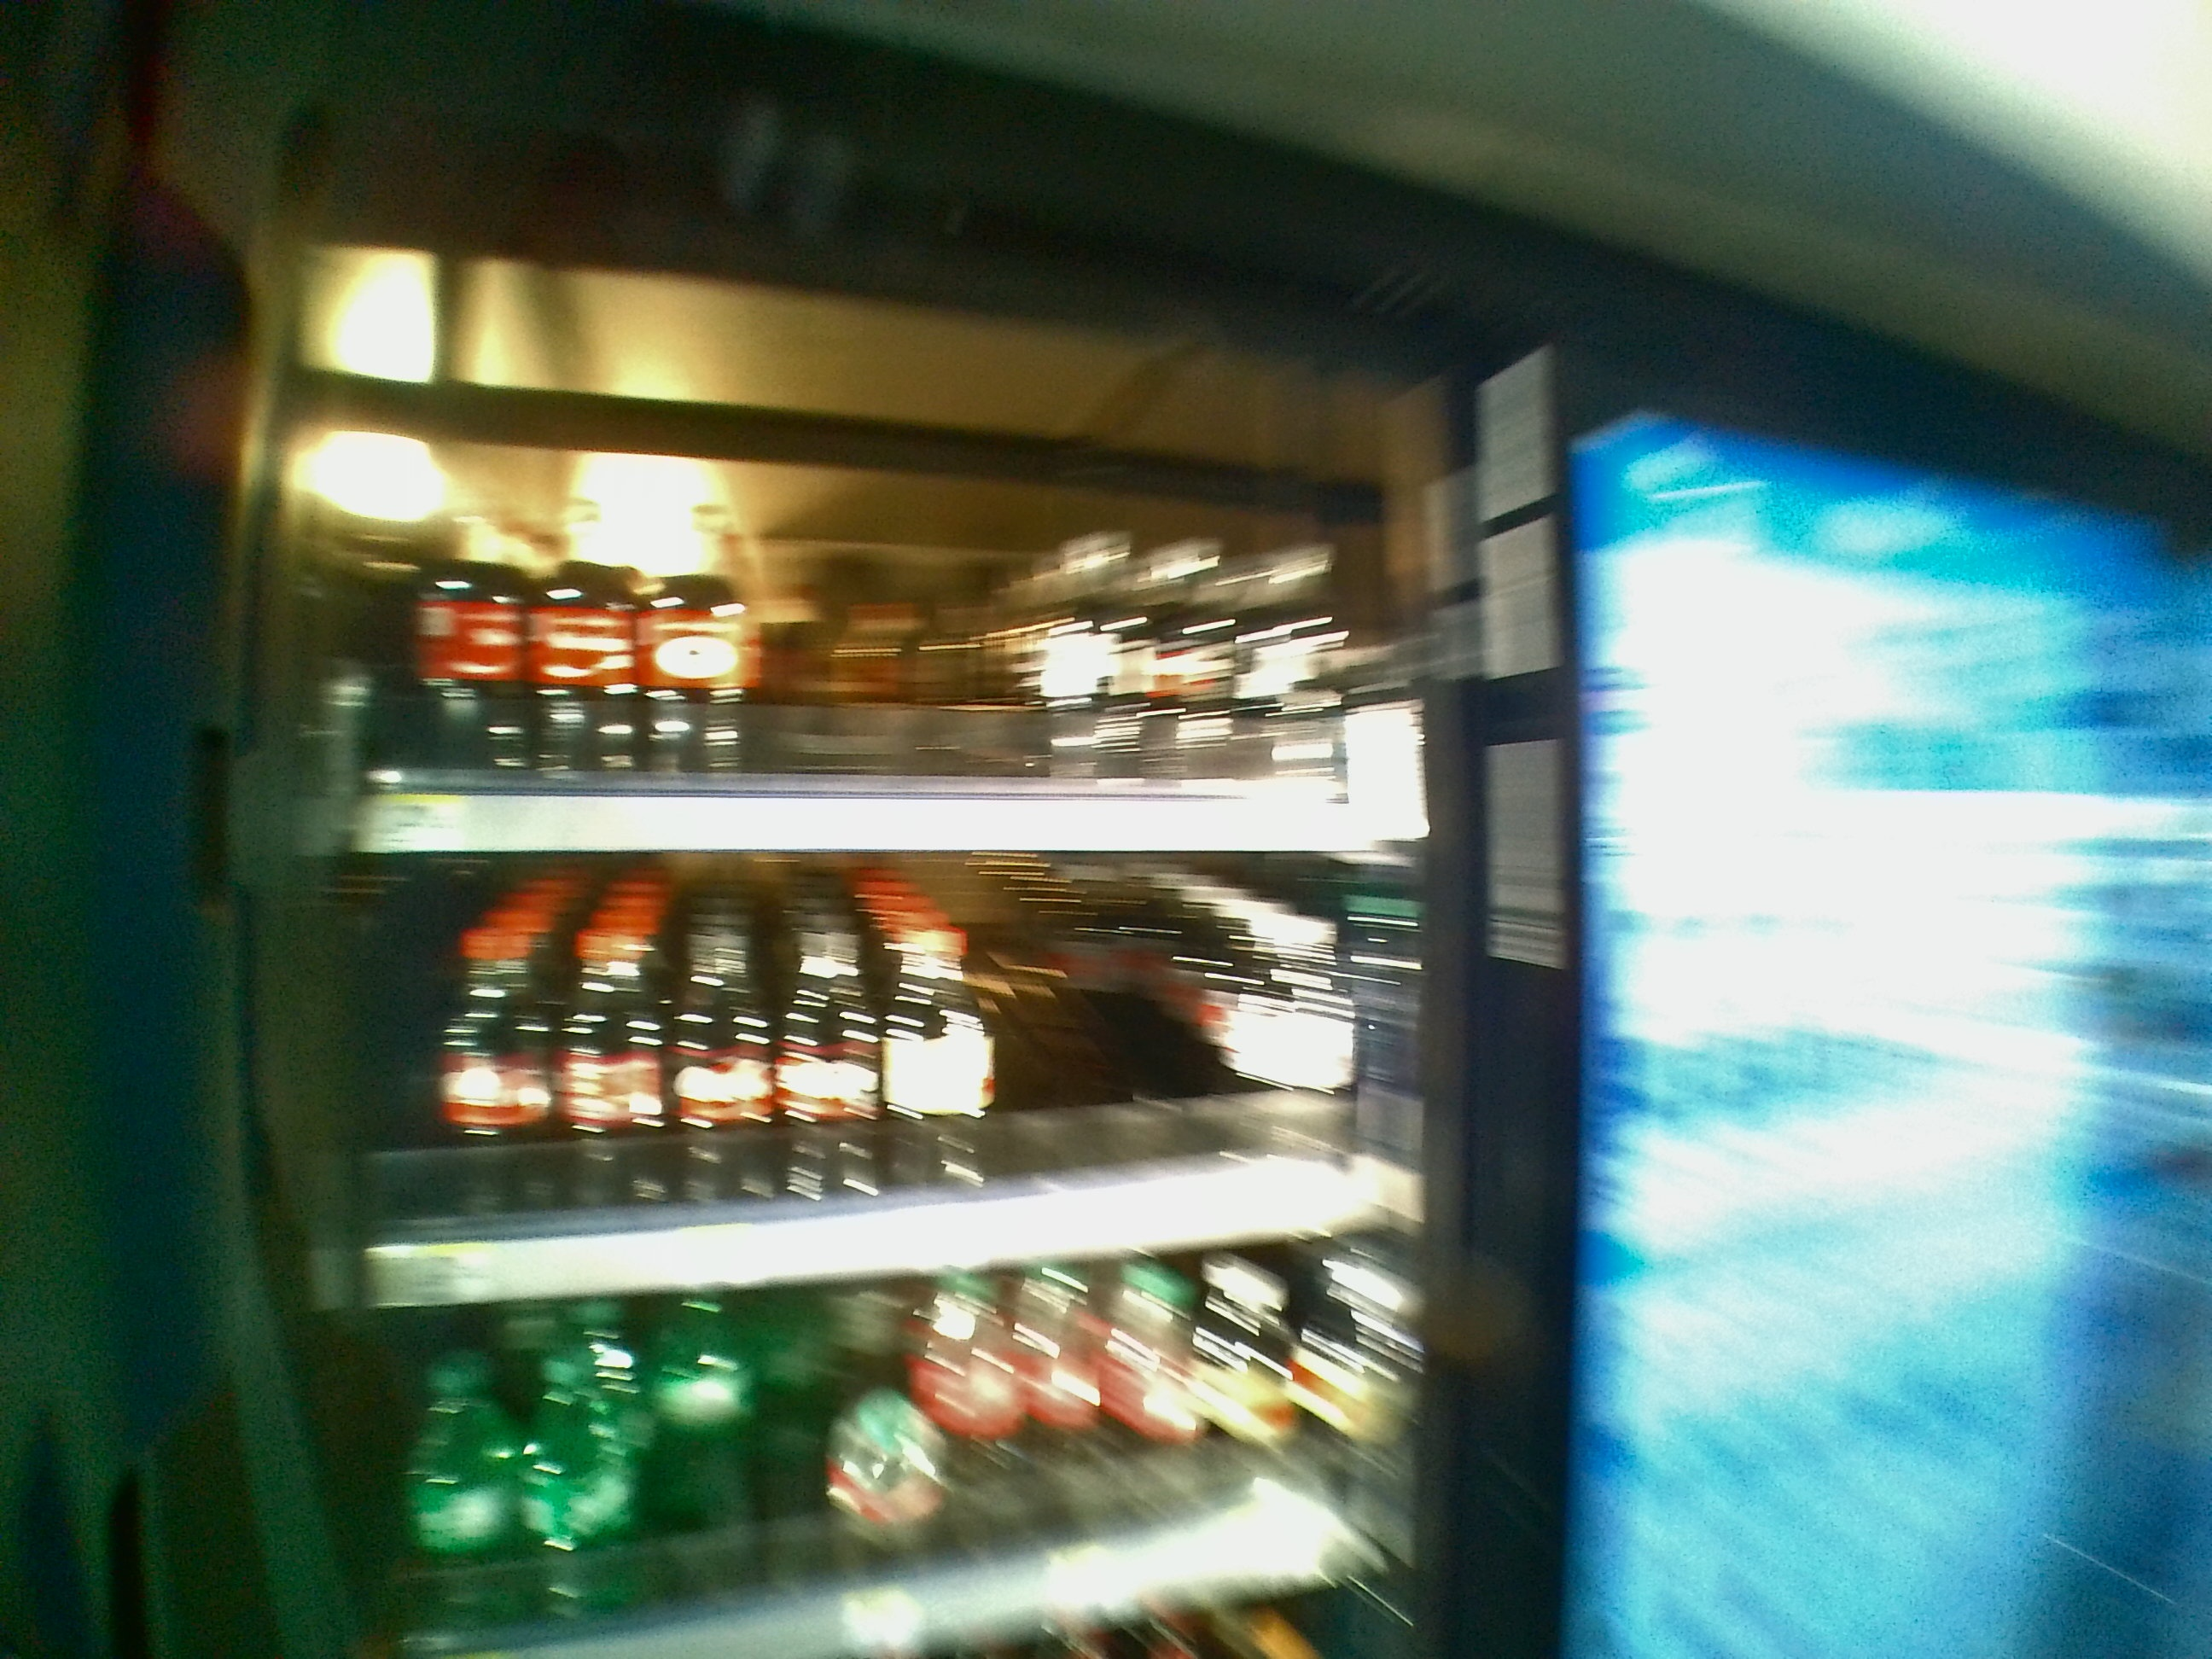Shelf: (343, 380, 1451, 857), (347, 857, 1470, 1314)
